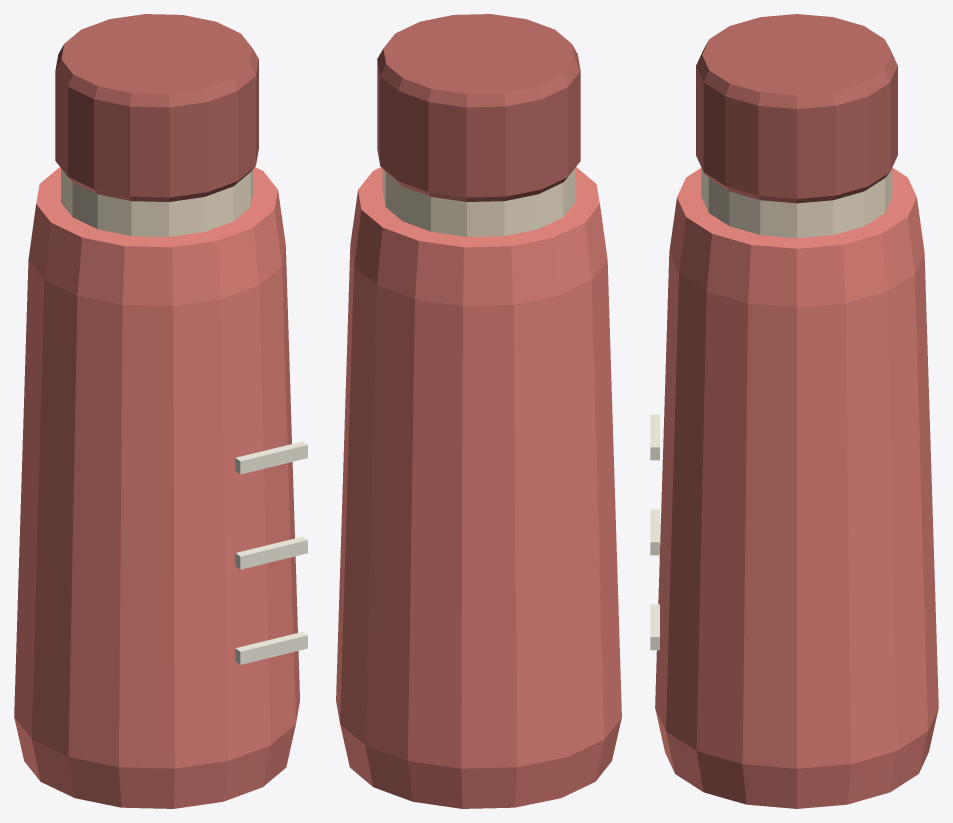
File: sauce_bottle.glb
3 renders of one model, left to right at view 1: azimuth 30°, elevation 25°; view 2: azimuth 150°, elevation 25°; view 3: azimuth 270°, elevation 25°, orthographic.
Parts seen in each view (by area): view 1: model; view 2: model; view 3: model.
Part boxes in pixels (x1,y1,x2,y2): model: [14, 14, 307, 808]; model: [336, 14, 621, 808]; model: [650, 14, 938, 808].
Bounding box in the file's own units: 0.15 × 0.4 × 0.15.
